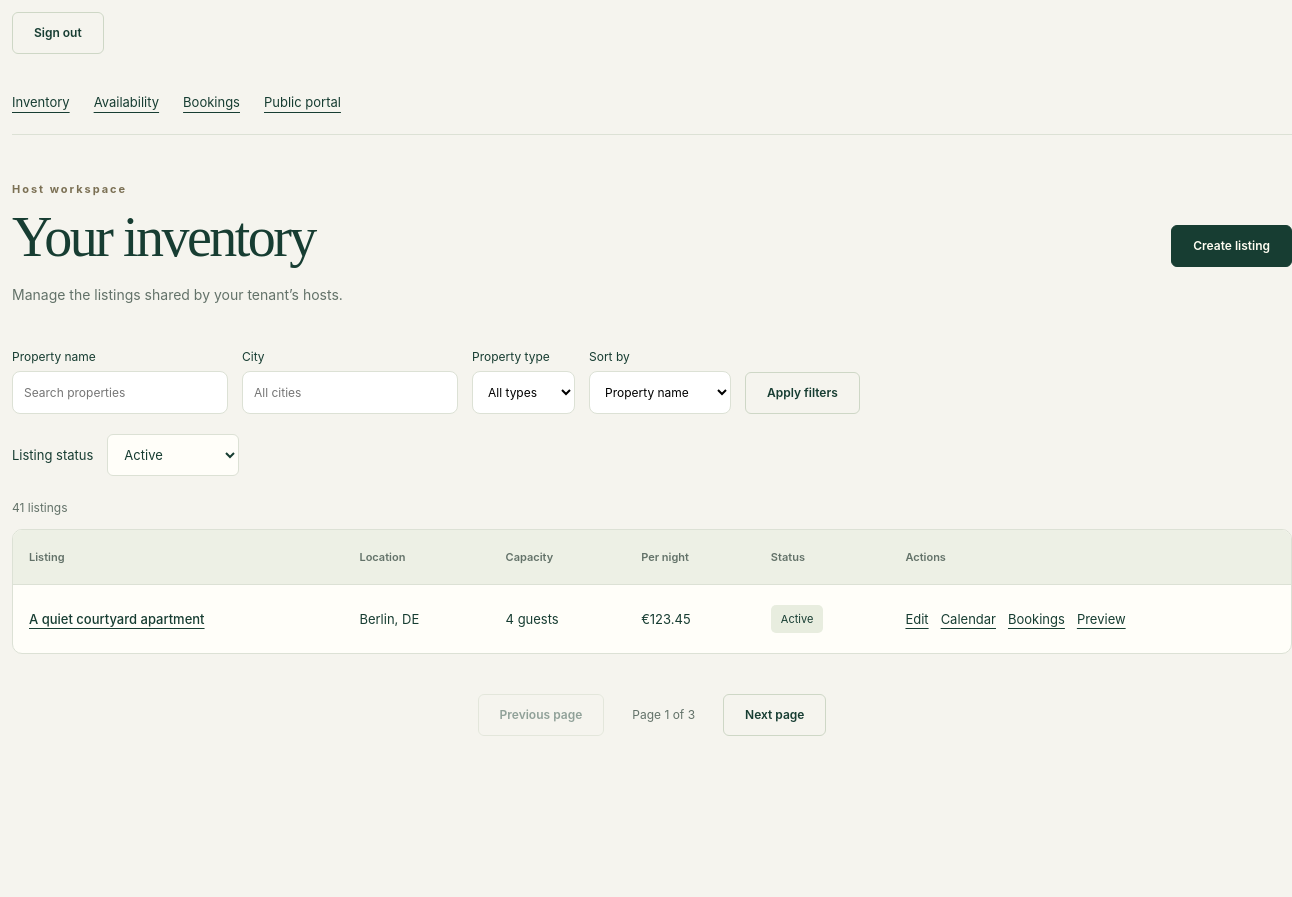
it: allows an unrestricted host to reach Create listing
Click the link "Create listing": [1232, 246] box [1171,225,1291,267]
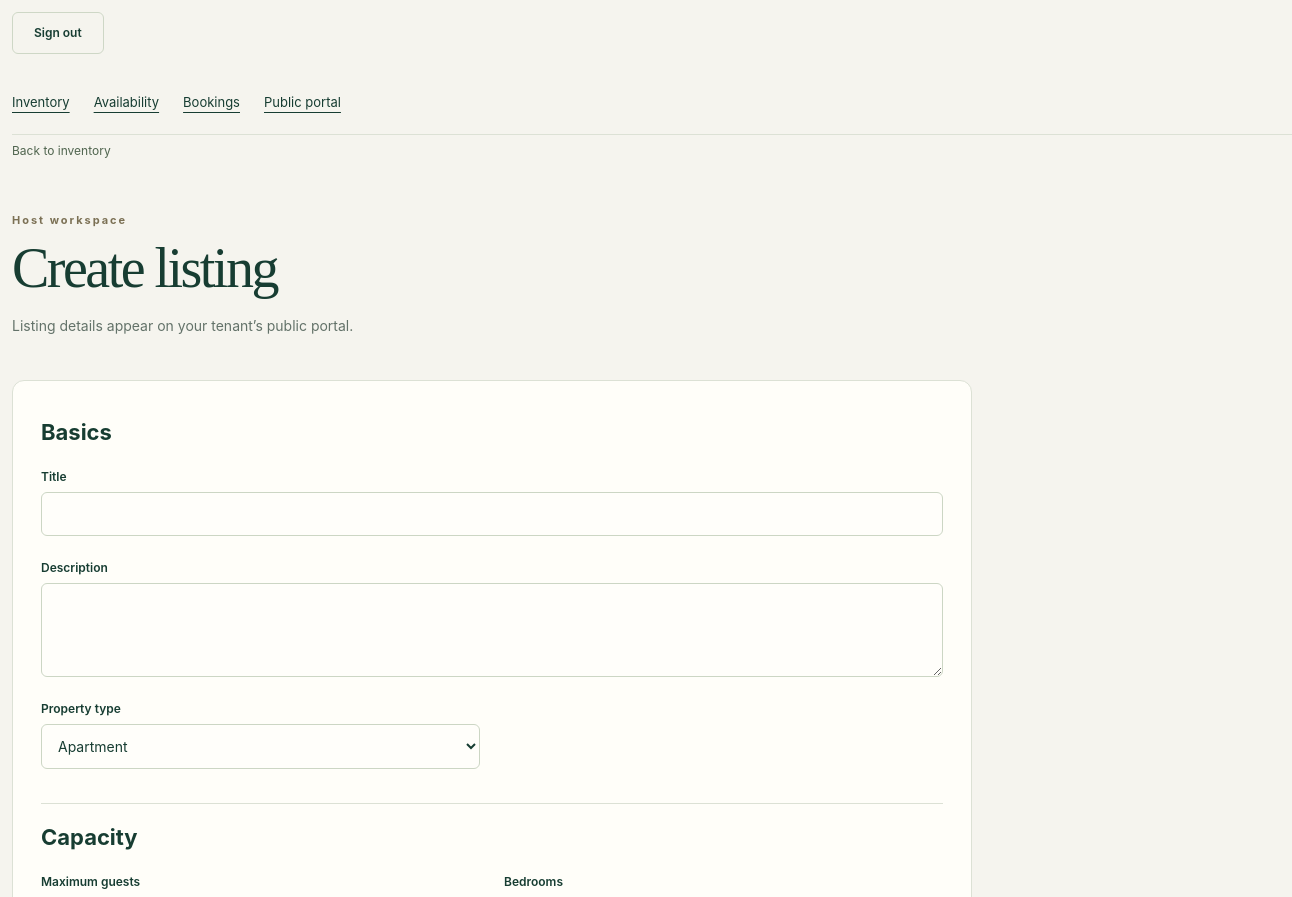
Expected: the heading "Create listing" is shown, [12,237,277,299]
